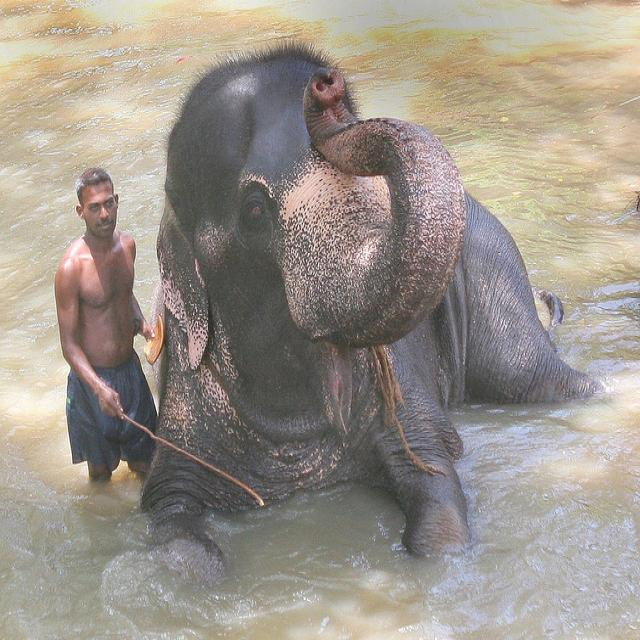Elephant: (138, 39, 607, 584)
person: (54, 166, 158, 483)
